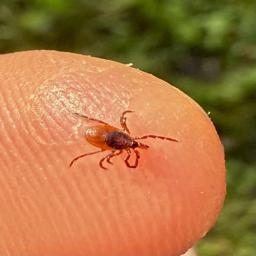Ixodes scapularis: (68, 111, 180, 169)
